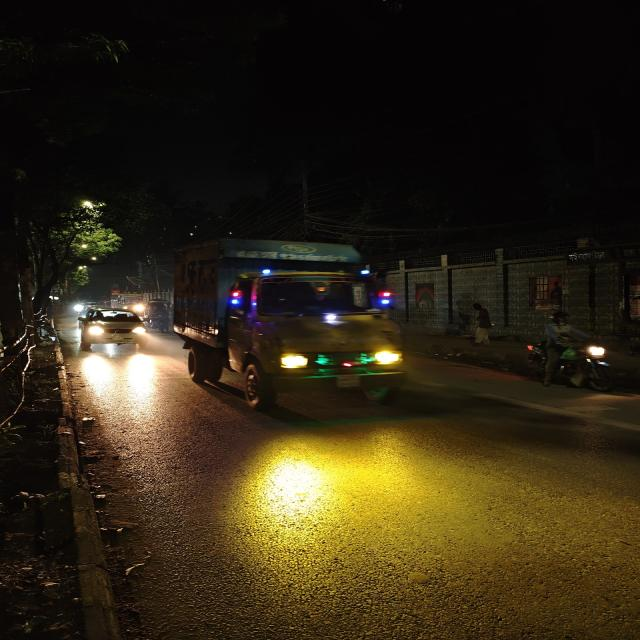car: (74, 306, 148, 354)
motorcycle: (519, 311, 621, 394)
pedestrian: (466, 301, 498, 347)
rickshaw: (145, 299, 174, 334)
truck: (167, 233, 413, 415)
